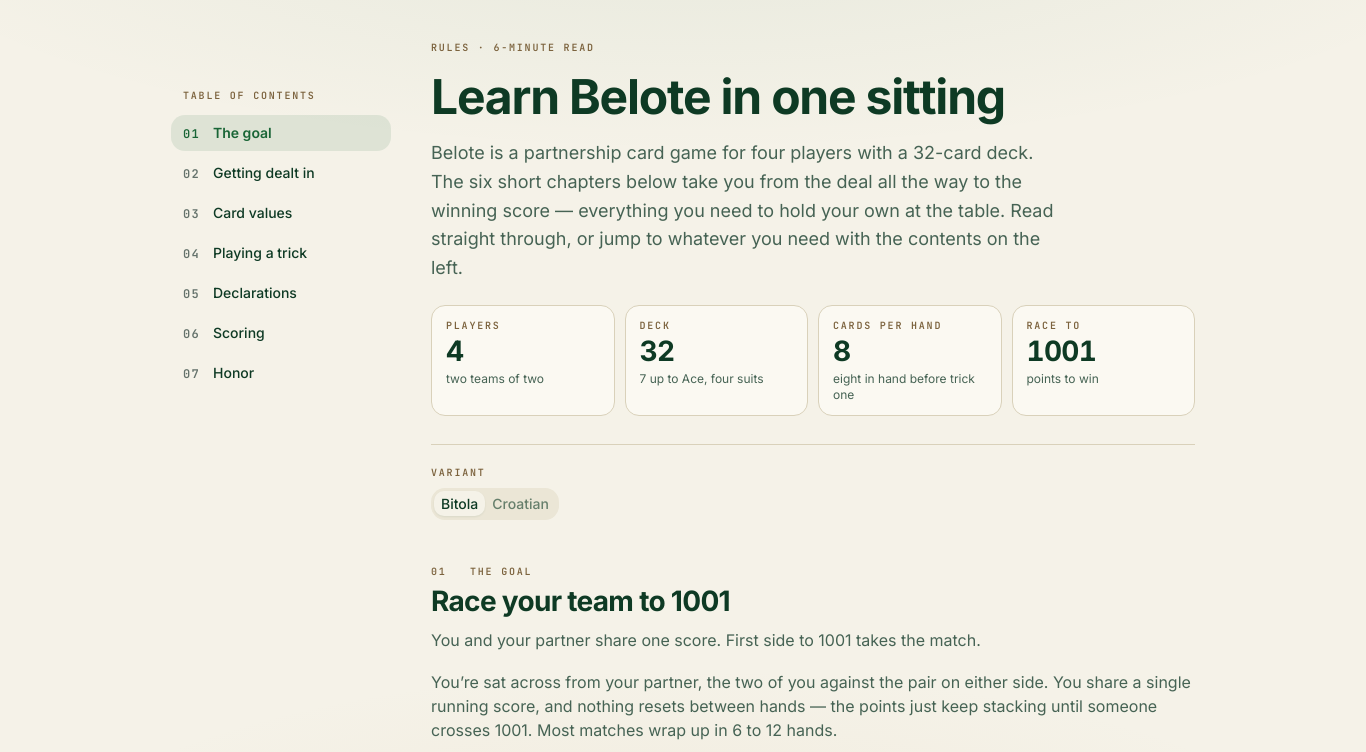
Scenario: RulesPage › describes the Croatian single round, forced dealer and post-trump reveal under that tab
The width and height of the screenshot is (1366, 752).
Click the tab with test id "rules-variant-croatia": (521, 504) top-left (485, 491), bottom-right (556, 516)
(page scrolled)
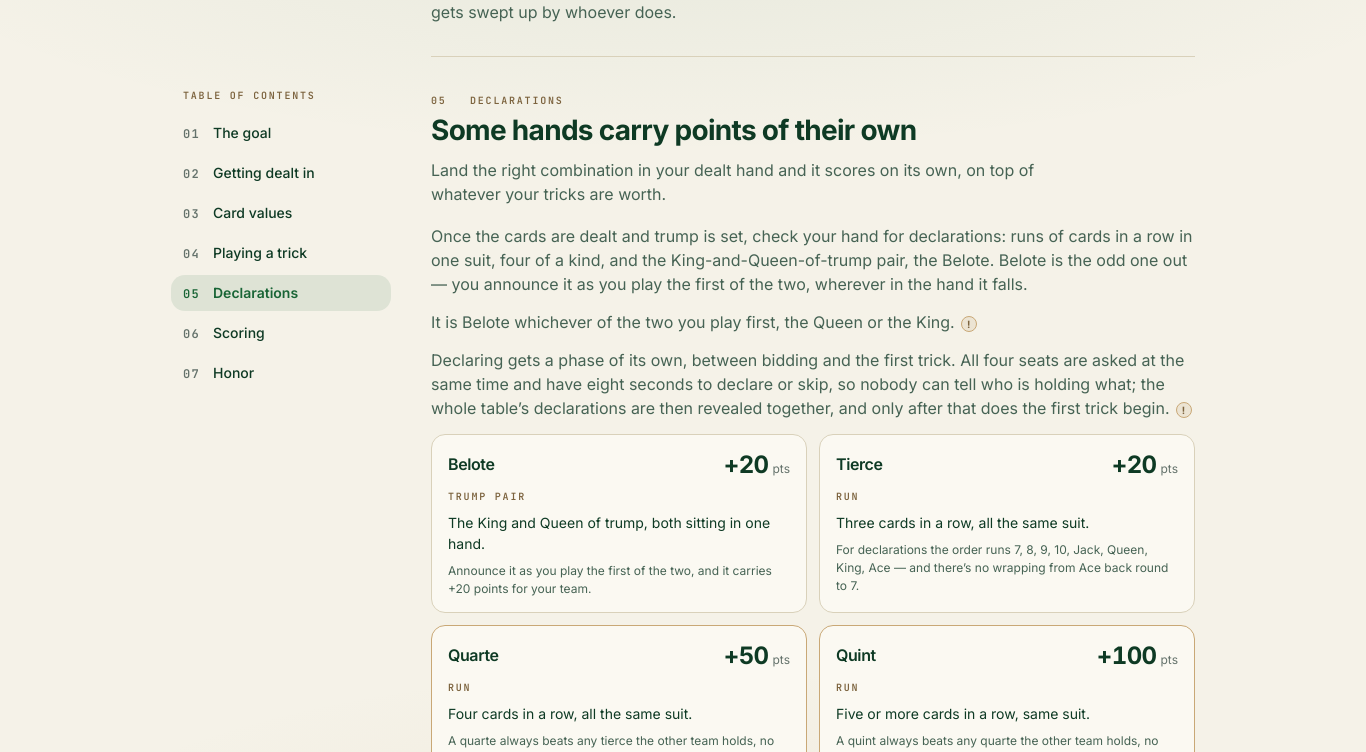
expect the text "Declaring gets a phase of its own, between bidding and the first trick" is shown: met, box top-left (431, 350), bottom-right (1184, 418)
